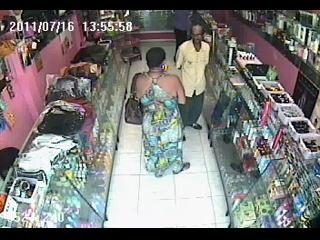Normal: (130, 47, 188, 177), (174, 24, 210, 131), (125, 97, 144, 125)
